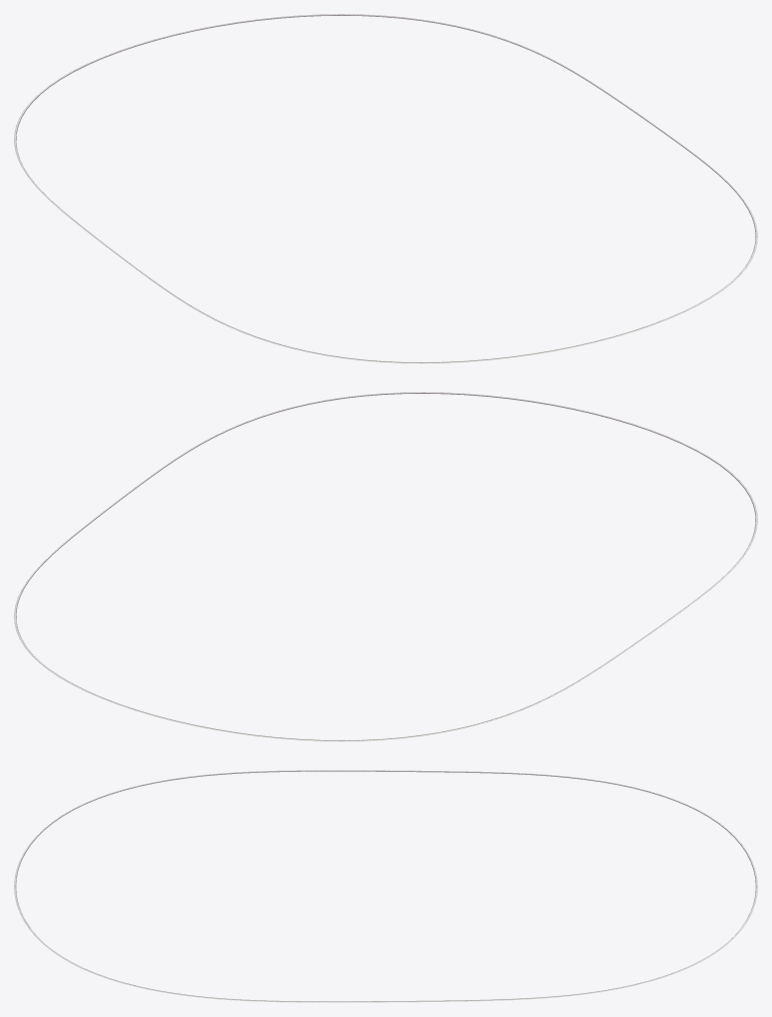
Rendered from ground_30_yards_2026-10-24.glb.
3 renders of one model, top to bottom at view 1: azimuth 30°, elevation 25°; view 2: azimuth 150°, elevation 25°; view 3: azimuth 270°, elevation 25°, orthographic. The views are drawn at different scales.
Parts seen in each view (by area): view 1: ground_30_yards; view 2: ground_30_yards; view 3: ground_30_yards.
Part boxes in pixels (x1=…): ground_30_yards: x1=14, y1=14, x2=757, y2=363; ground_30_yards: x1=14, y1=392, x2=757, y2=741; ground_30_yards: x1=14, y1=770, x2=757, y2=1002.
Bounding box in the file's own units: 55.74 × 0.1108 × 75.64.
1 material, 1 textured.
